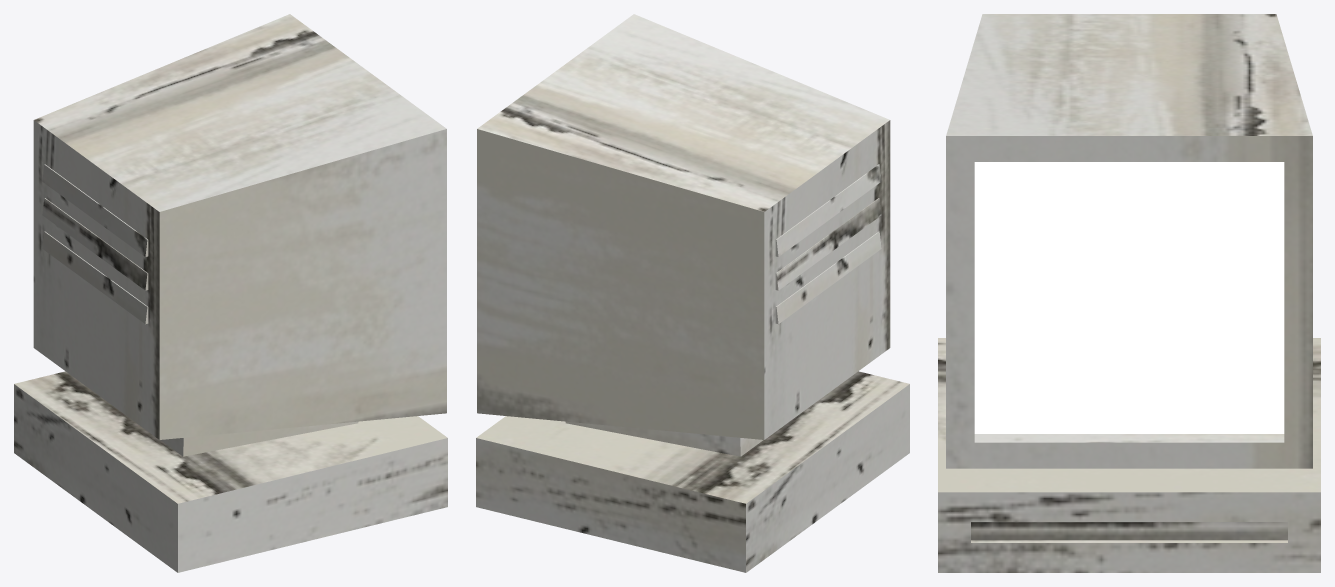
Rendered from Computer.fbx.
3 views of the same model, side by side, from view 1: azimuth 30°, elevation 25°; view 2: azimuth 150°, elevation 25°; view 3: azimuth 270°, elevation 25° (orthographic). The views are drawn at different scales.
Parts seen in each view (by area): view 1: Computer; view 2: Computer; view 3: Computer.
Boxes of the visible parts, x1,y1,x2,y2 form: Computer: (14,14,447,572); Computer: (476,14,909,572); Computer: (938,14,1320,572).
Size of the model in its own units: 75.17 by 98.12 by 77.69.
